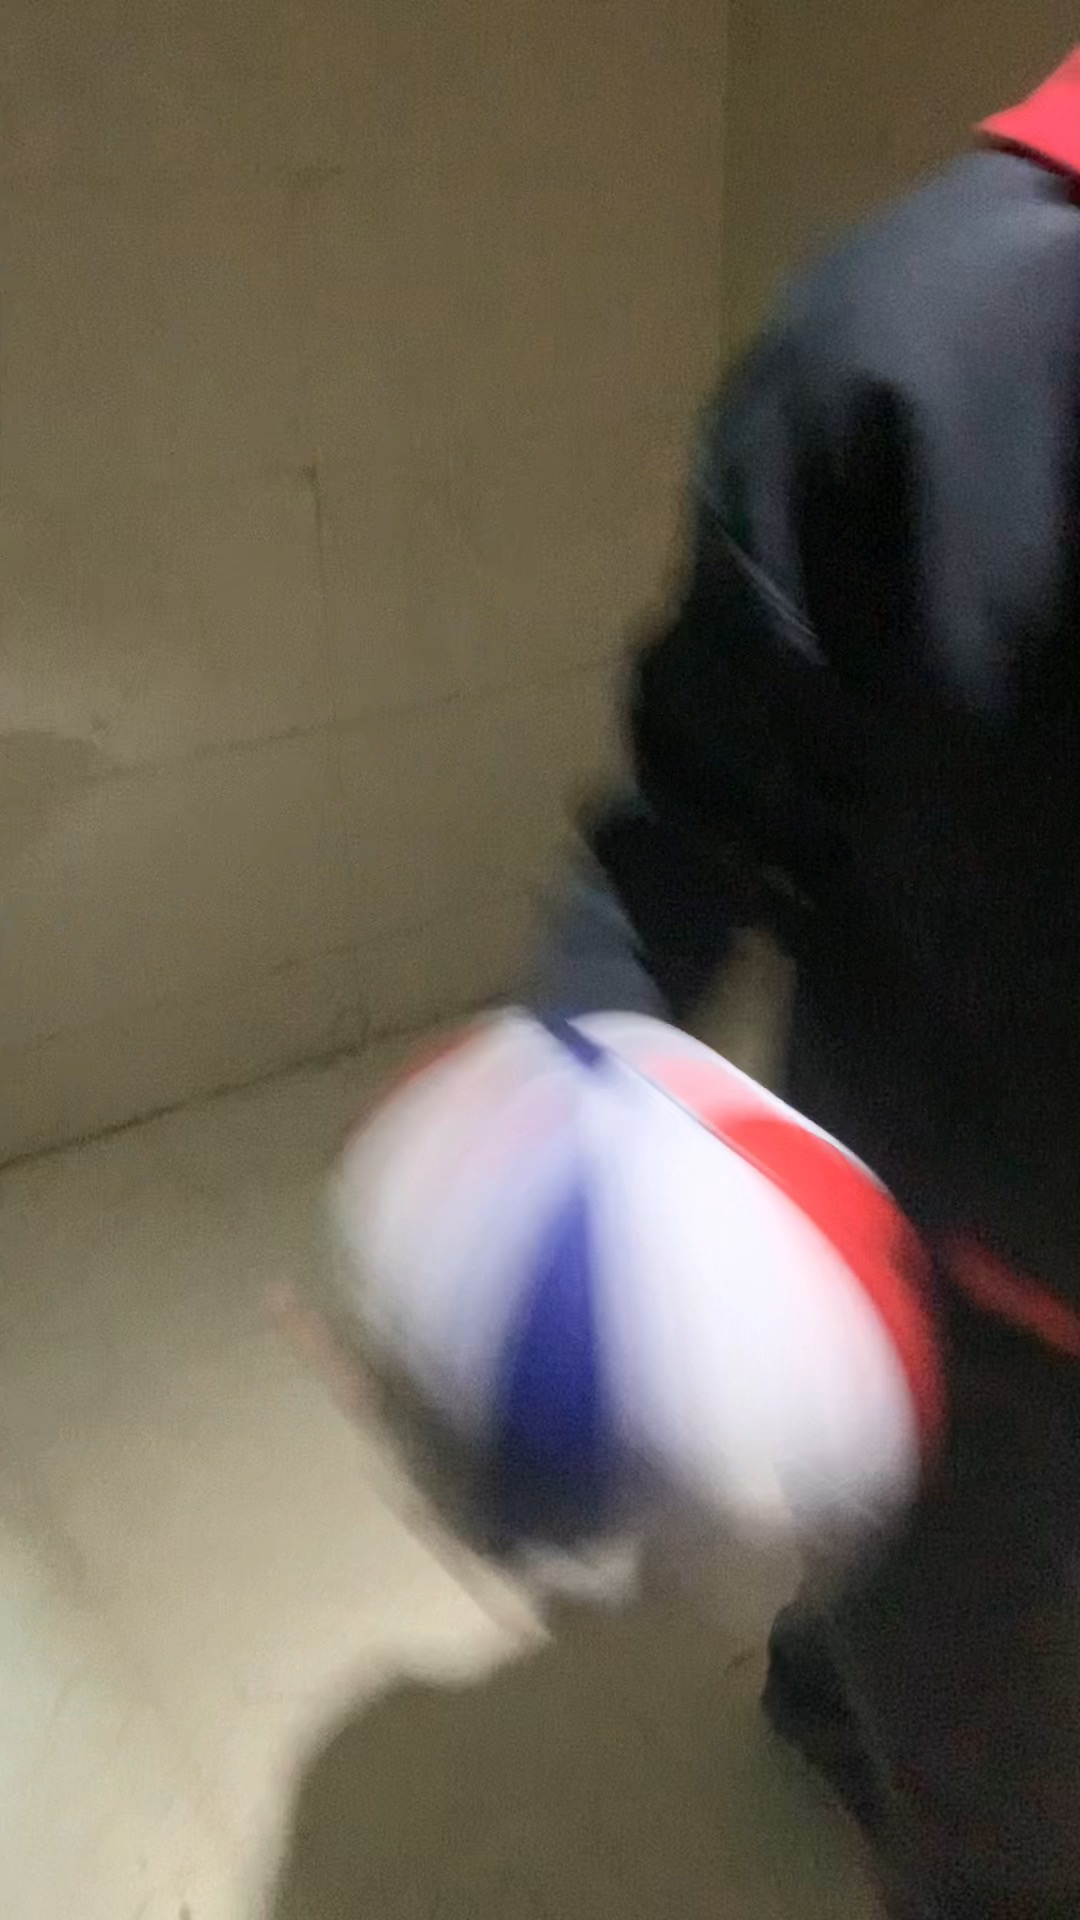ball: (310, 996, 951, 1625)
